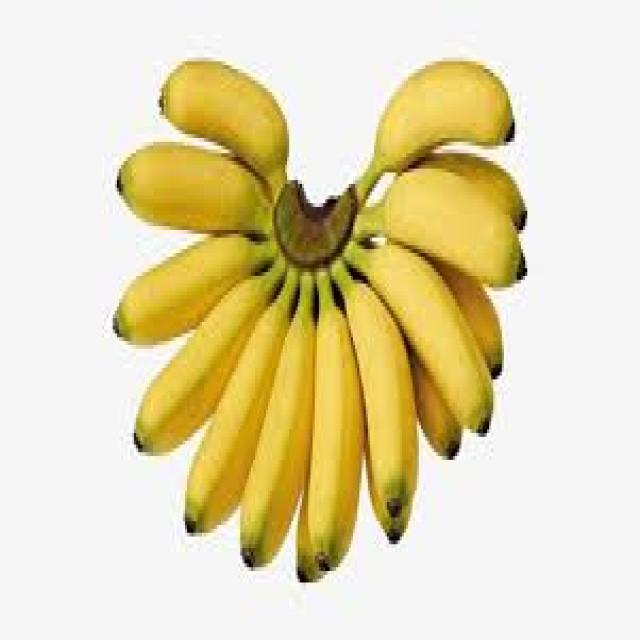banana: (111, 54, 527, 582)
